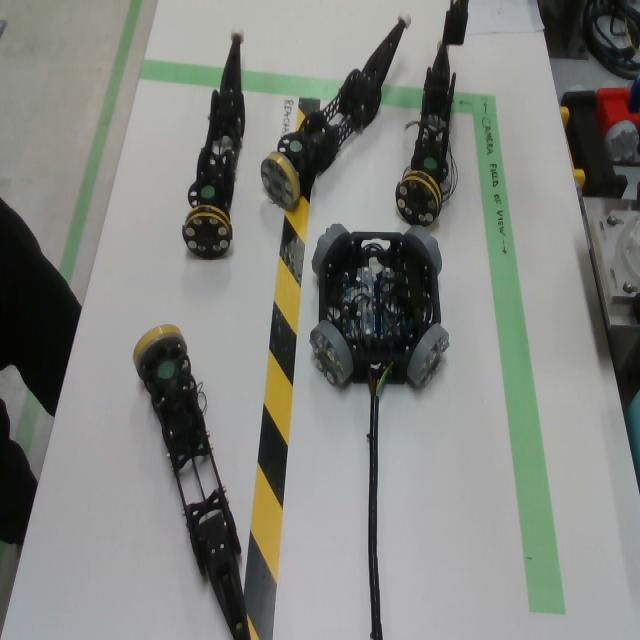body: (319, 232, 442, 385)
body_connector: (309, 320, 354, 387), (407, 324, 451, 388), (404, 227, 443, 276), (312, 224, 349, 275)
leg: (133, 321, 251, 640), (260, 11, 412, 211), (182, 24, 245, 260), (395, 36, 456, 226)
leg_connector: (133, 324, 188, 377), (182, 205, 233, 259), (395, 171, 442, 225), (260, 152, 301, 212)
leg_marker: (158, 361, 176, 380), (201, 185, 216, 199), (423, 157, 438, 169), (290, 140, 303, 153)
